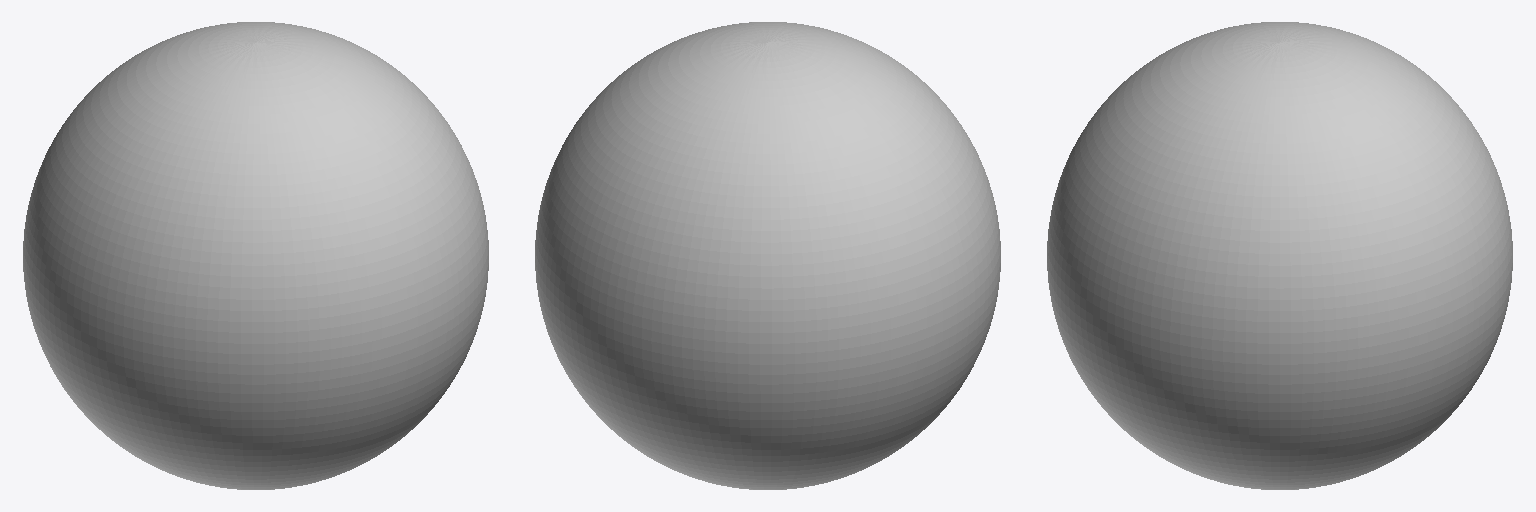
Rendered from sun.obj.
The picture shows the model from 3 angles: view 1: azimuth 30°, elevation 25°; view 2: azimuth 150°, elevation 25°; view 3: azimuth 270°, elevation 25°; orthographic projection.
Parts seen in each view (by area): view 1: Sphere; view 2: Sphere; view 3: Sphere.
Part boxes in pixels (left/top/right/bottom): Sphere: left=23, top=22, right=488, bottom=489; Sphere: left=535, top=22, right=1000, bottom=489; Sphere: left=1047, top=22, right=1512, bottom=489.
Size of the model in its own units: 1.97 by 2 by 1.97.